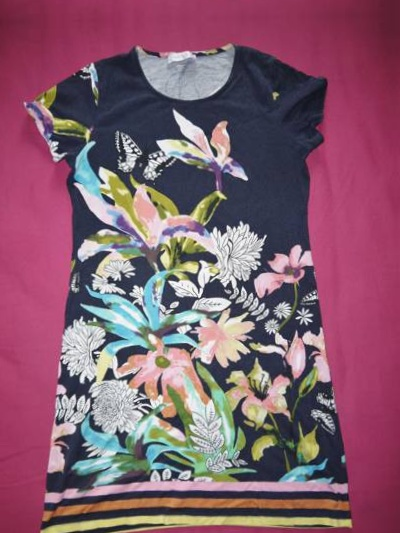Dress: (15, 31, 368, 533), (5, 0, 357, 6)
